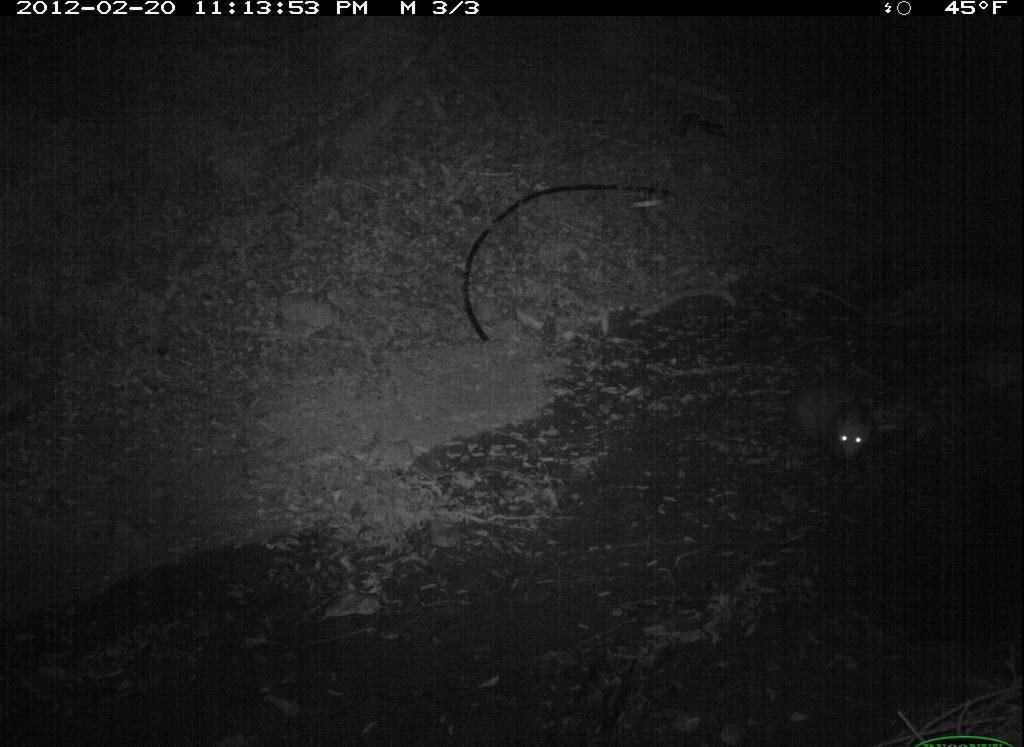opossum: (783, 372, 880, 468)
